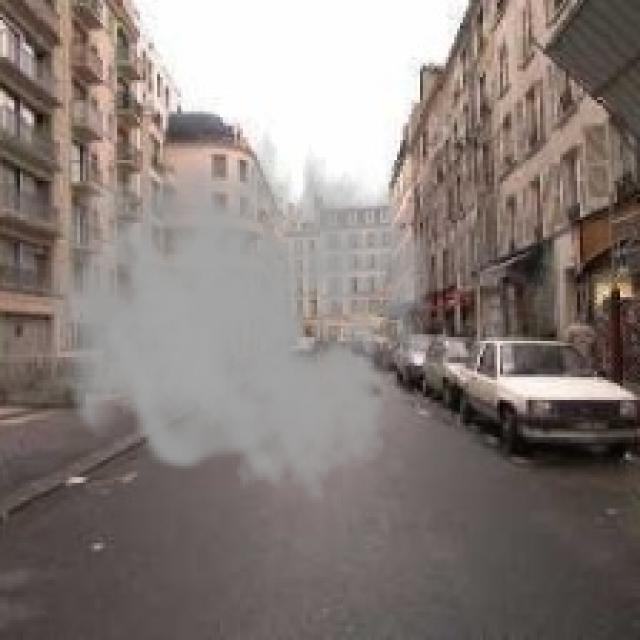Smoke: (42, 111, 434, 503)
